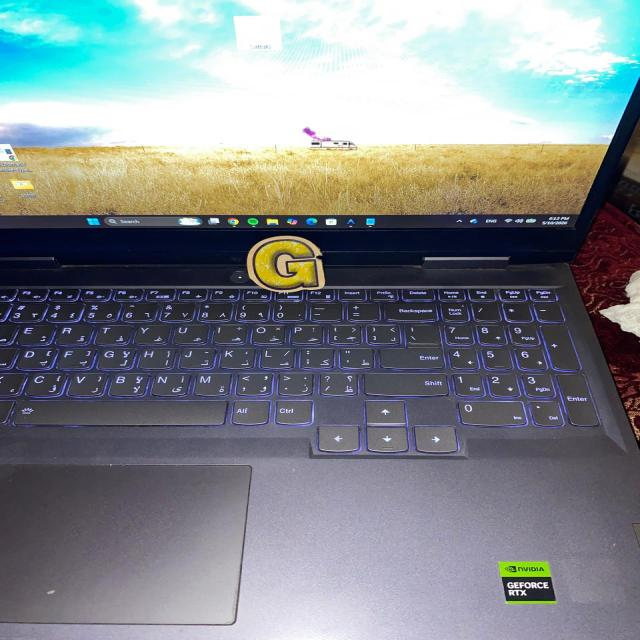G: (247, 236, 325, 291)
